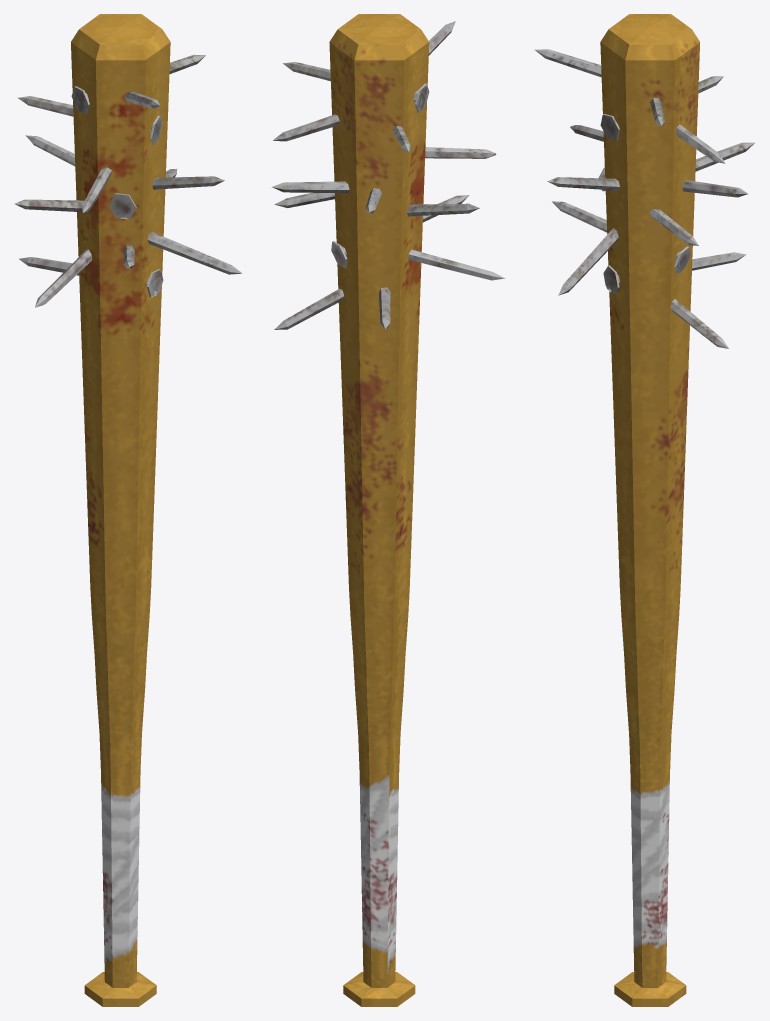
File: MKU_bat_03.fbx
The picture shows the model from 3 angles, left to right: view 1: azimuth 30°, elevation 25°; view 2: azimuth 150°, elevation 25°; view 3: azimuth 270°, elevation 25°; orthographic projection.
Visible parts, largest first — view 1: 0_bat; view 2: 0_bat; view 3: 0_bat.
Part boxes in pixels (box(x1,y1,x2,y2)): 0_bat: box(14, 14, 242, 1006); 0_bat: box(272, 14, 504, 1006); 0_bat: box(534, 14, 754, 1006).
Bounding box in the file's own units: 207 × 970 × 201.
Materials: 1 (1 with a texture image).
